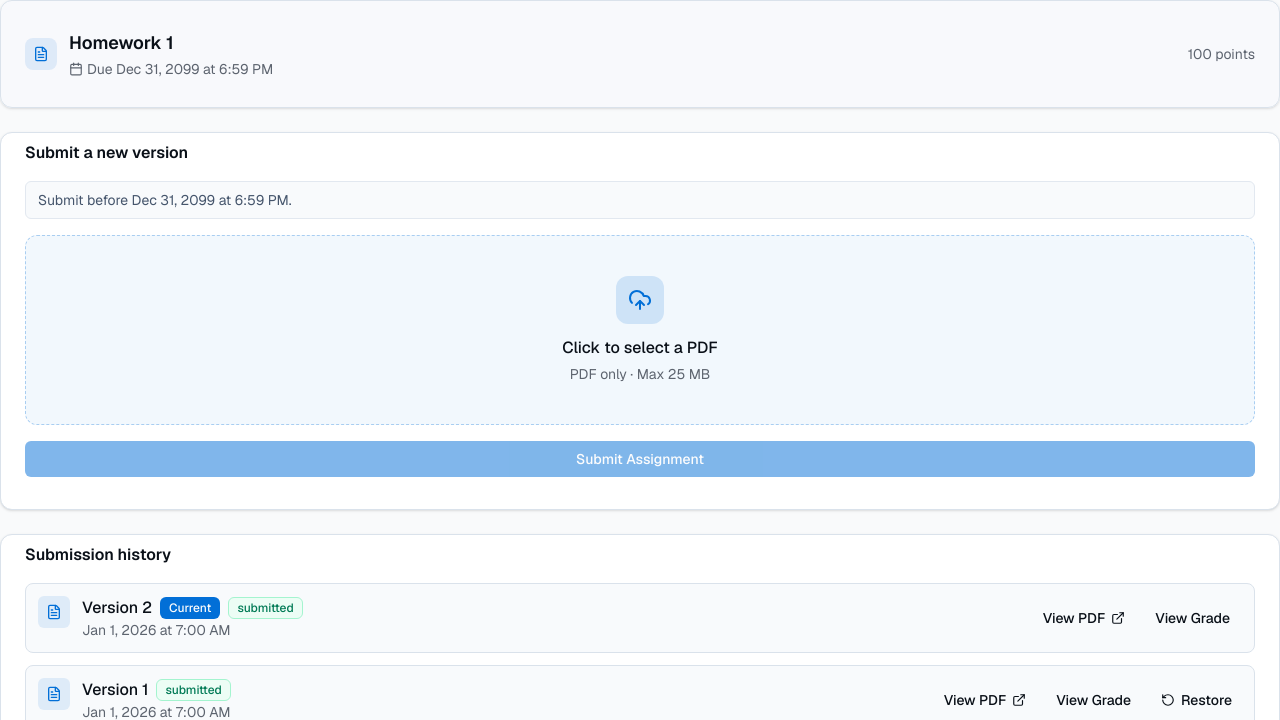
Test case: restoreSubmission › shows success message and calls router.refresh() on successful restore
This screenshot has width=1280, height=720.
Click the button "Restore": click(1196, 700) [1151,684,1242,716]
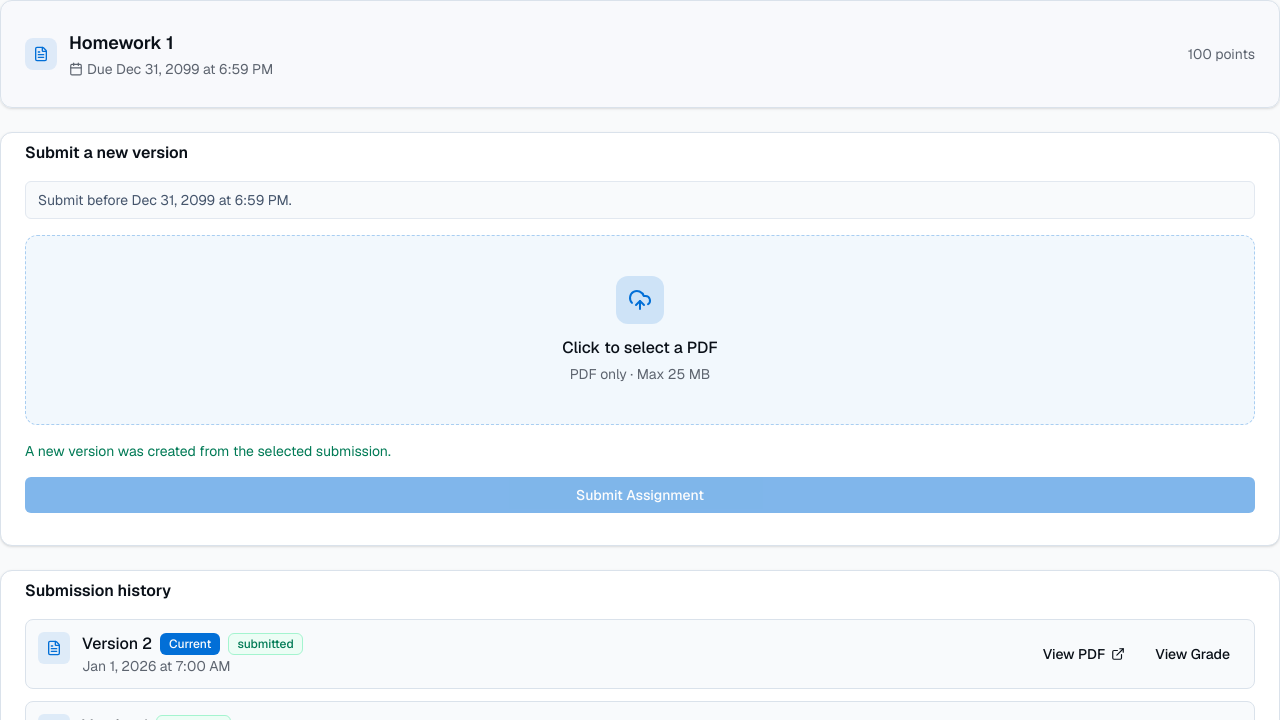
Now the text "A new version was created from the selected submission." is shown, box [25,442,391,460]
